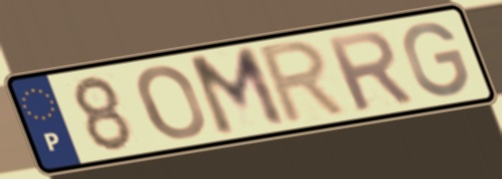8: (68, 73, 139, 155)
G: (401, 20, 473, 99)
M: (184, 43, 292, 141)
O: (135, 63, 209, 143)
R: (255, 36, 354, 129), (320, 28, 418, 115)
